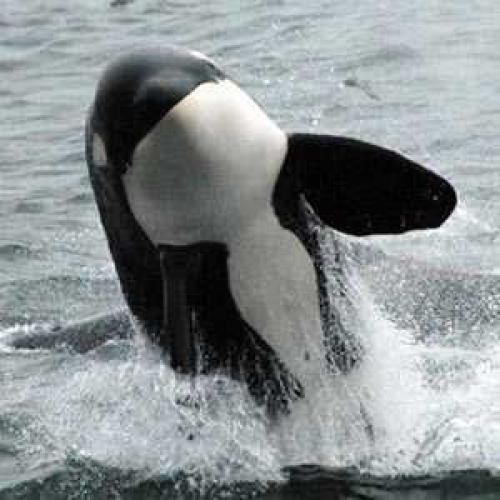killer_whale-endangered: (68, 25, 456, 456)
